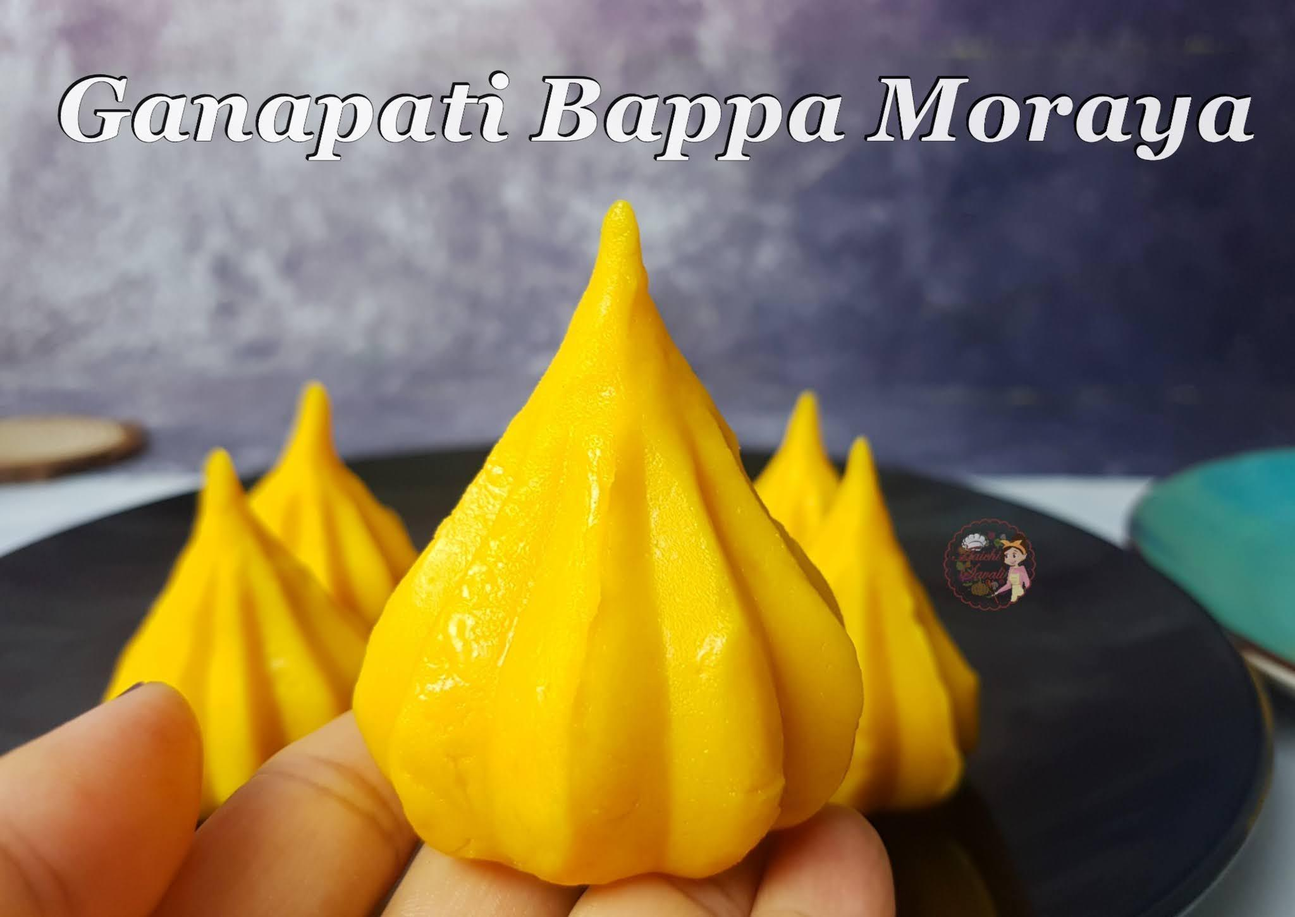modak: (453, 232, 899, 805)
